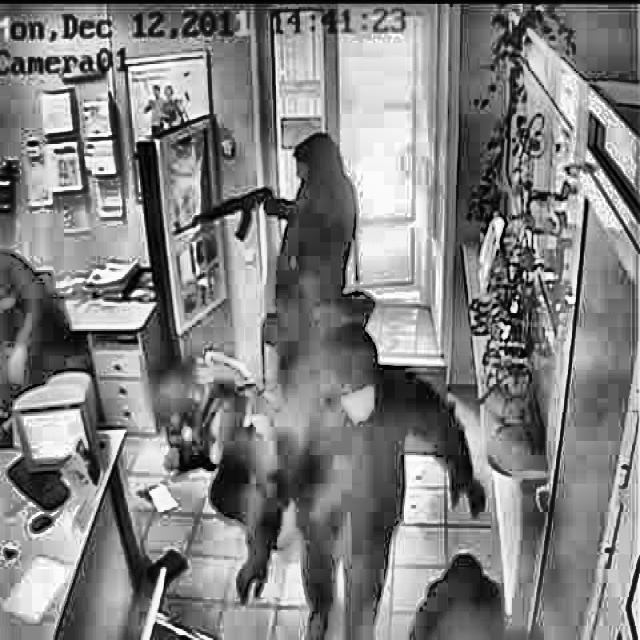robbery: (139, 123, 492, 638)
